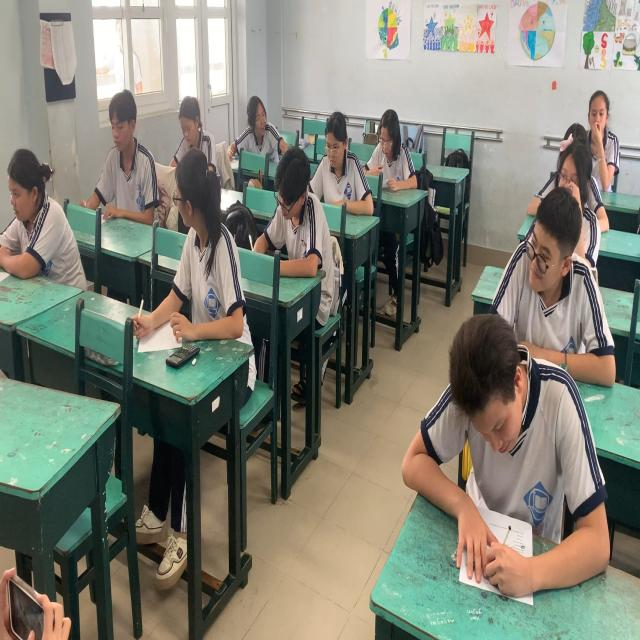cheating: (163, 143, 241, 340), (237, 91, 286, 167)
not_cheating: (399, 308, 578, 554), (509, 194, 599, 370), (4, 150, 78, 278), (102, 77, 160, 222), (316, 112, 376, 222), (276, 160, 327, 280), (368, 98, 416, 198), (578, 84, 620, 160), (172, 94, 214, 153)
